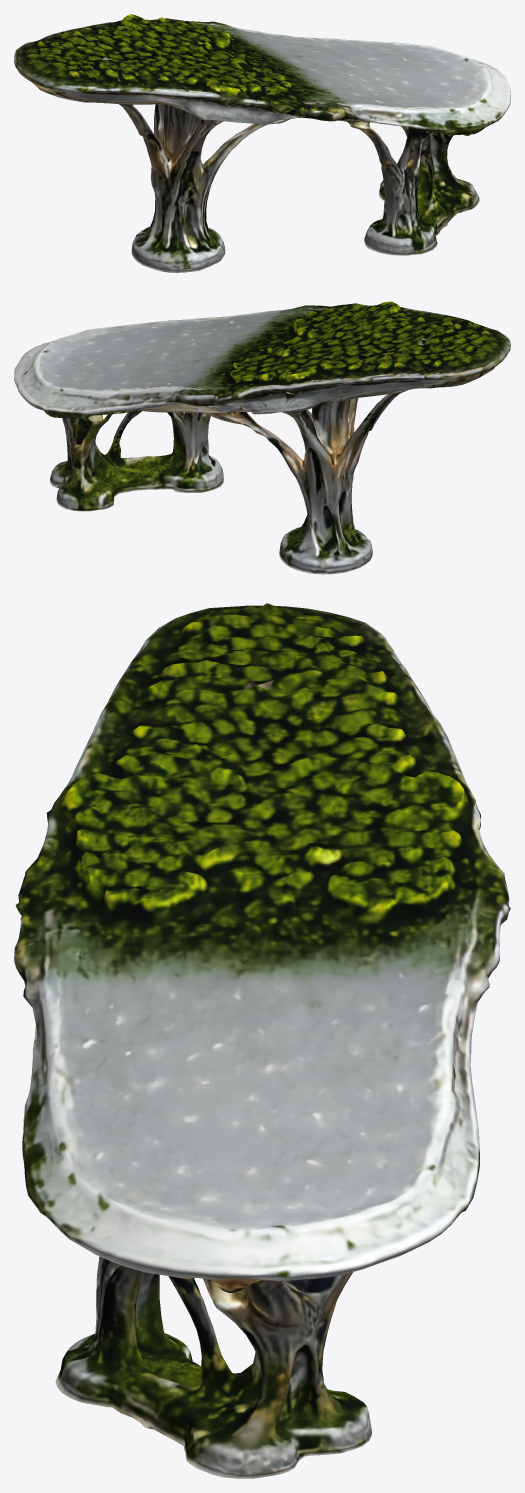
Rendered from bridge_segment_lowpol.glb.
3 renders of one model, top to bottom at view 1: azimuth 30°, elevation 25°; view 2: azimuth 150°, elevation 25°; view 3: azimuth 270°, elevation 25°, orthographic. The views are drawn at different scales.
Parts seen in each view (by area): view 1: geometry_0; view 2: geometry_0; view 3: geometry_0.
Boxes of the visible parts, x1,y1,x2,y2 form: geometry_0: (14,14,510,272); geometry_0: (14,301,510,574); geometry_0: (14,603,510,1478).
Bounding box in the file's own units: 0.957 × 0.4561 × 0.4448.
1 material, 1 textured.
